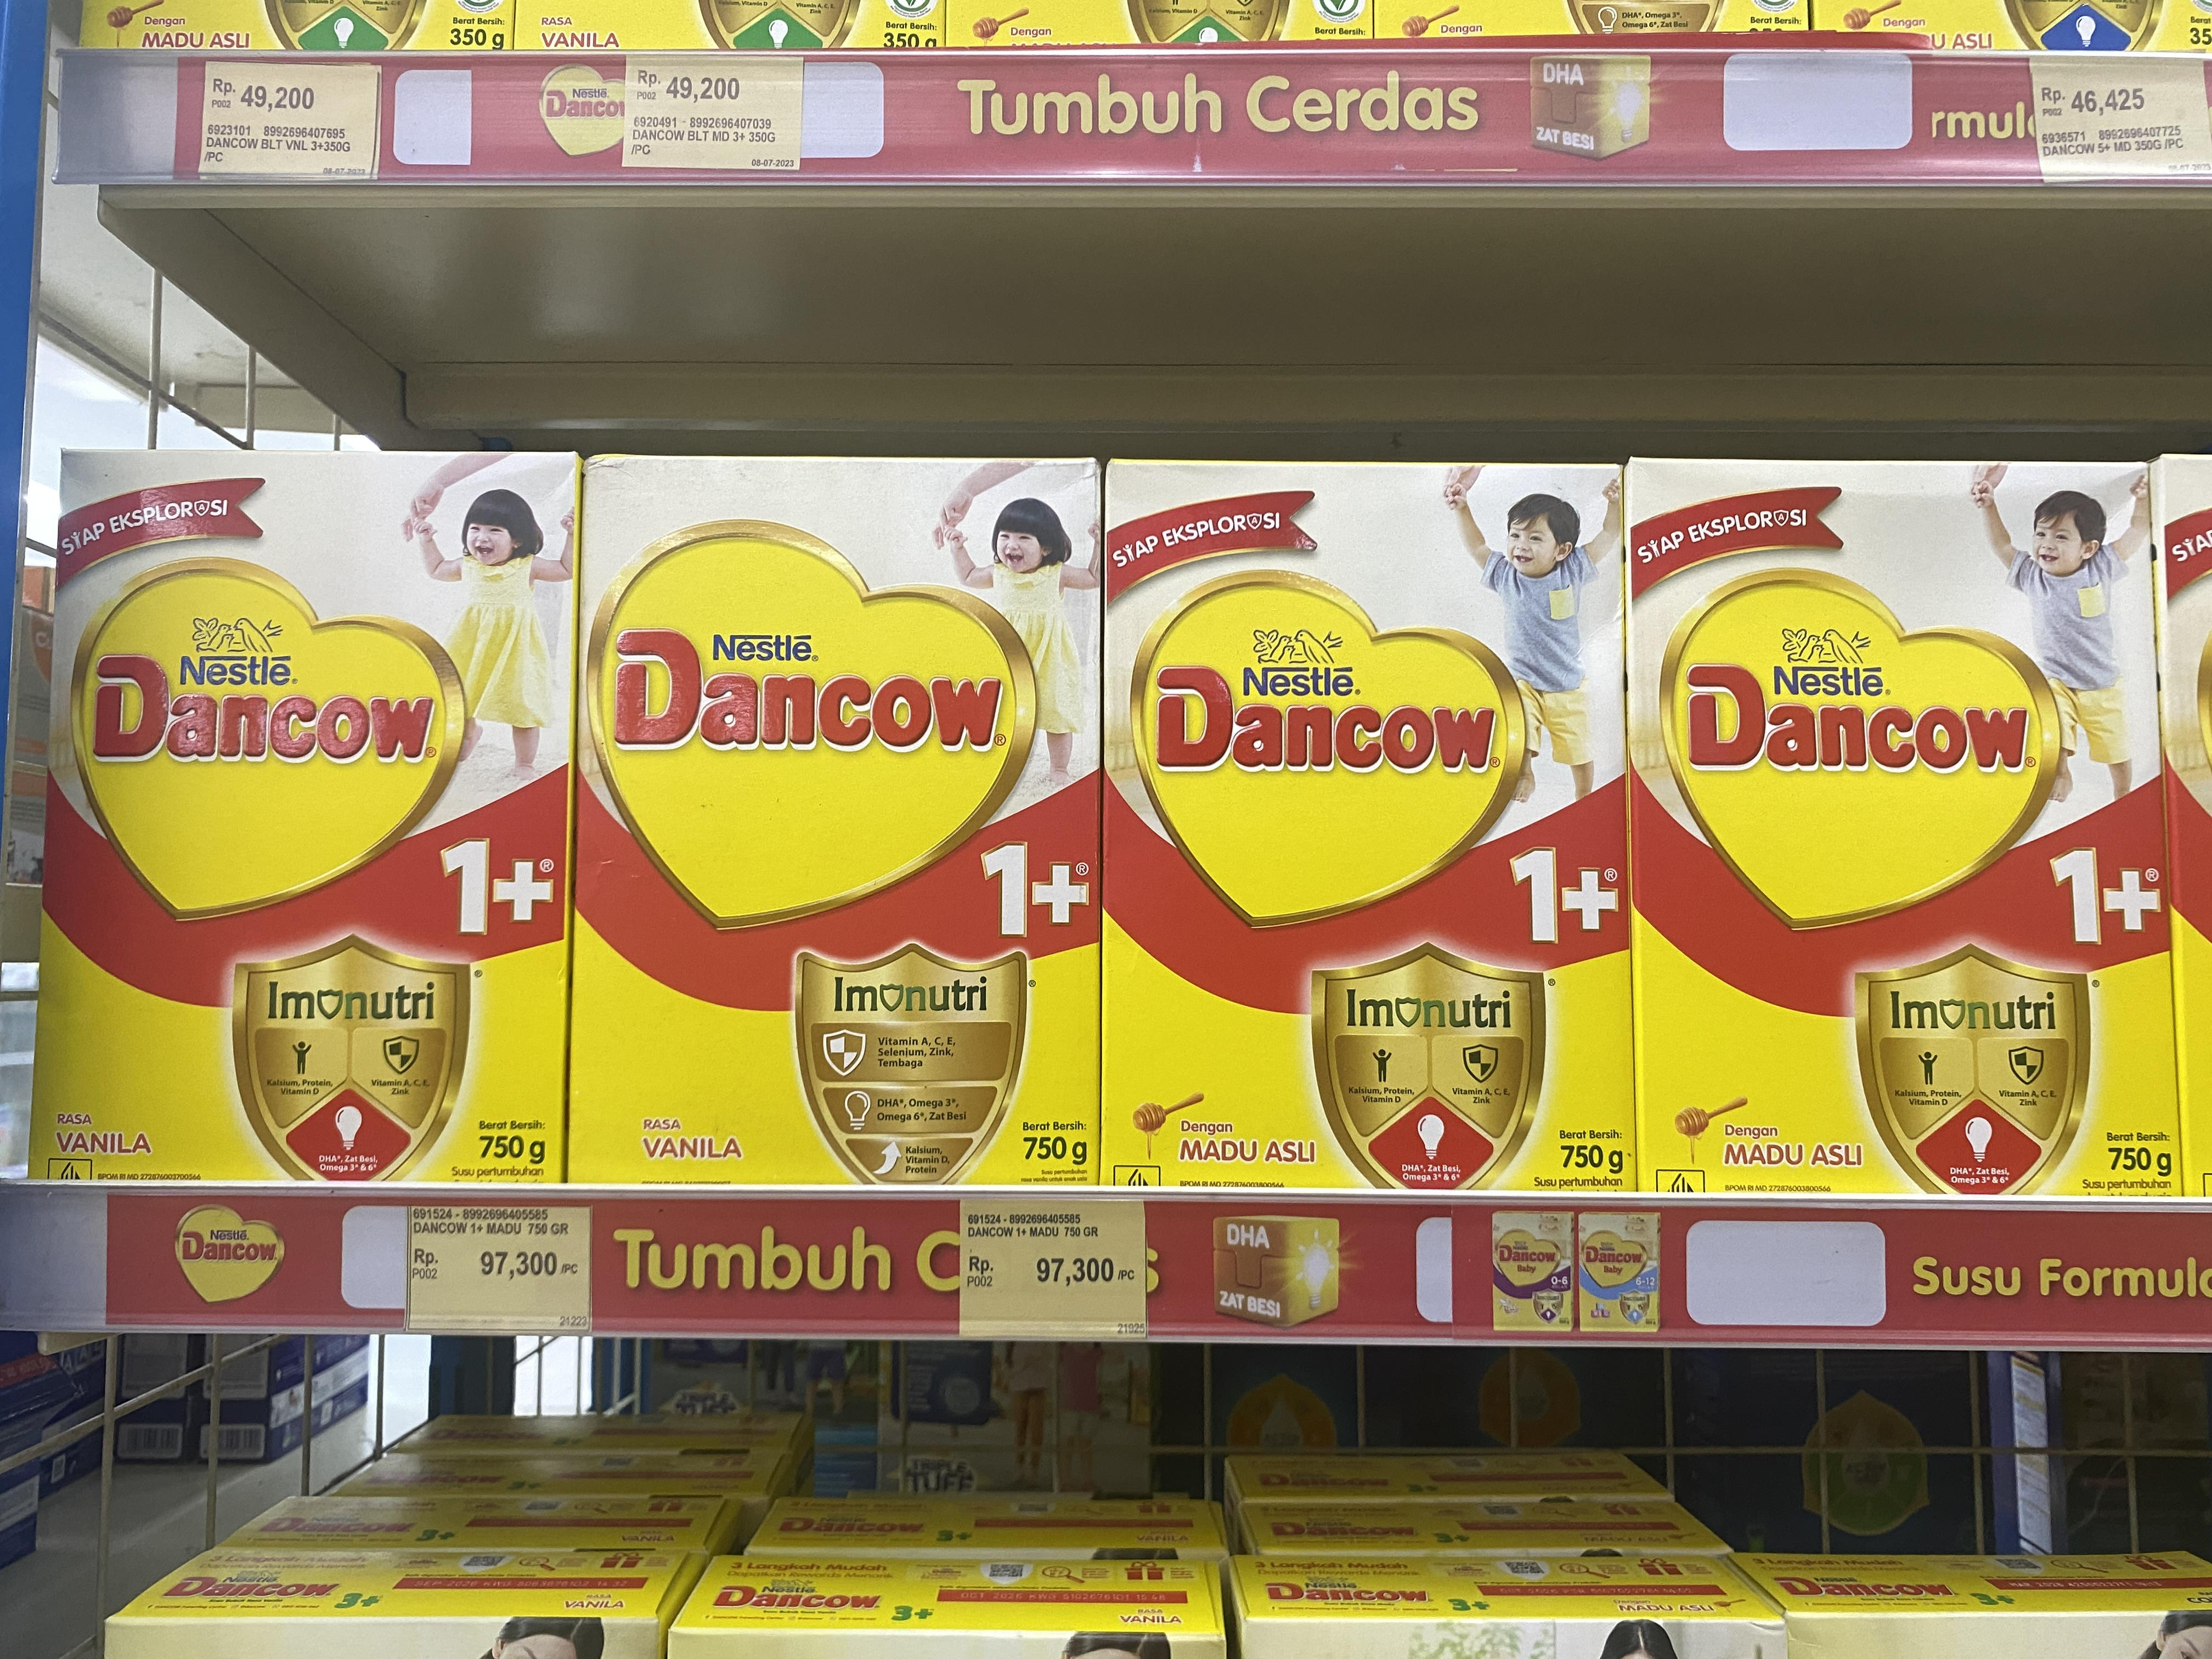DANCOW 1+ Madu Advn ExcNutr 12x800g ID_REDESIGN3: (1634, 455, 2175, 1201), (1106, 458, 1635, 1195), (575, 453, 1104, 1190)
